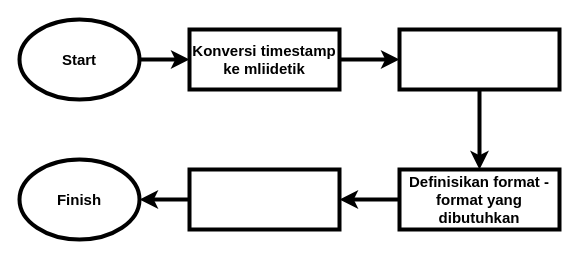
Some shapes in this 578 by 258 pixel diagram are drawn without their labels. The shapes that lost their labels are listed below. From the top down, each one's centre as x and y in pixels, then its label:
the point at 479,59: Membuat objek detik
the point at 264,199: Konfersi ke string dan mengirim nilai ke Frontend
